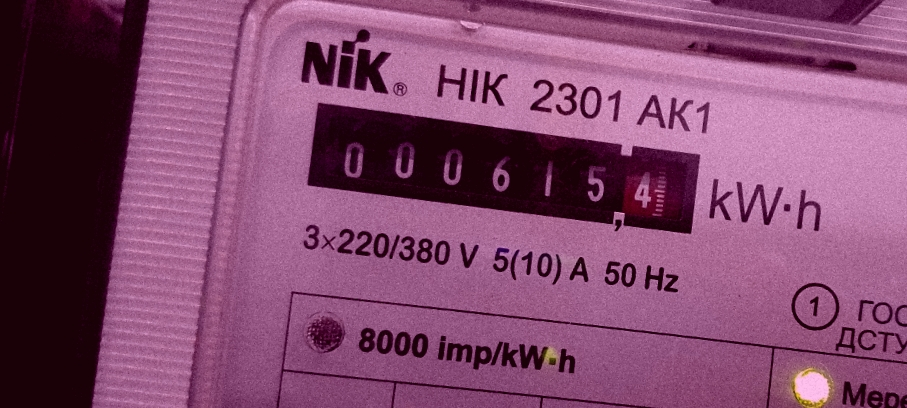0: (437, 143, 468, 189), (338, 136, 369, 180), (390, 137, 419, 180)
1: (539, 156, 559, 199)
4: (631, 167, 656, 210)
5: (581, 160, 610, 205)
6: (486, 150, 516, 194)
screen: (290, 82, 717, 257)
